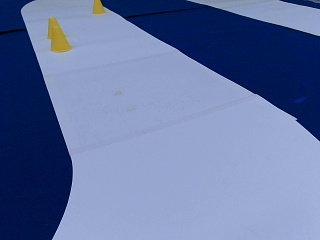cone: (46, 18, 70, 52), (91, 0, 104, 13)
